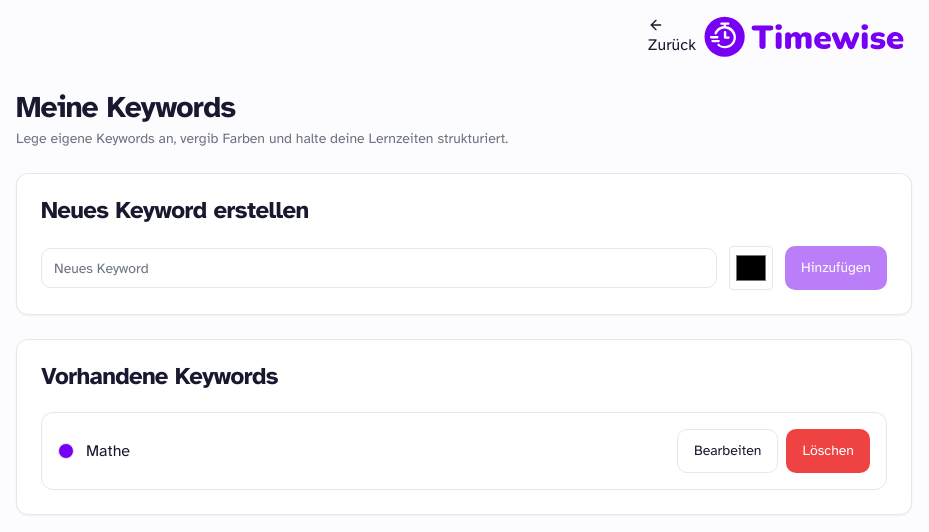
Scenario: KeywordsPage › updates and deletes an existing keyword
Expected: the text "Mathe" is shown, 86,439 -> 130,463
Click the button "Bearbeiten". click: (728, 451)
box: 677,429 -> 778,473
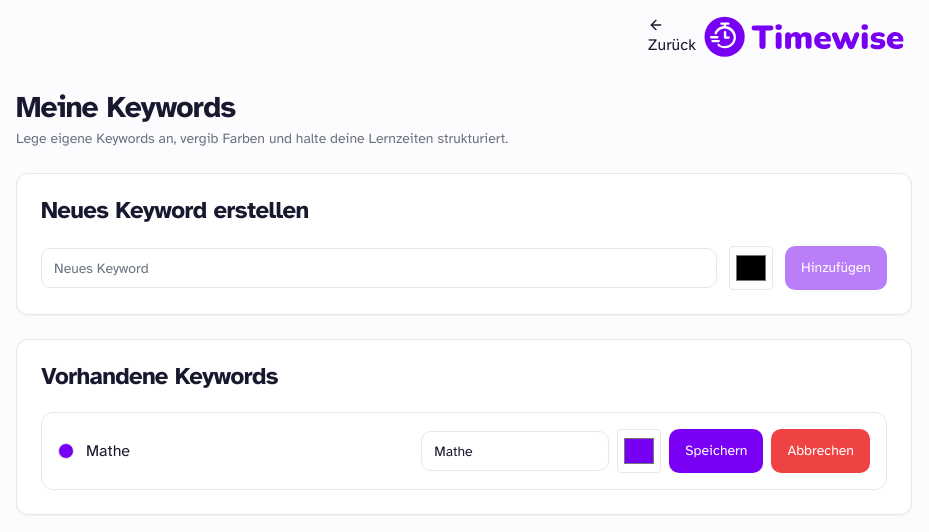
Replace the text in the field showing "Mathe" with "Physik". click: (515, 451)
box: 421,431 -> 609,471
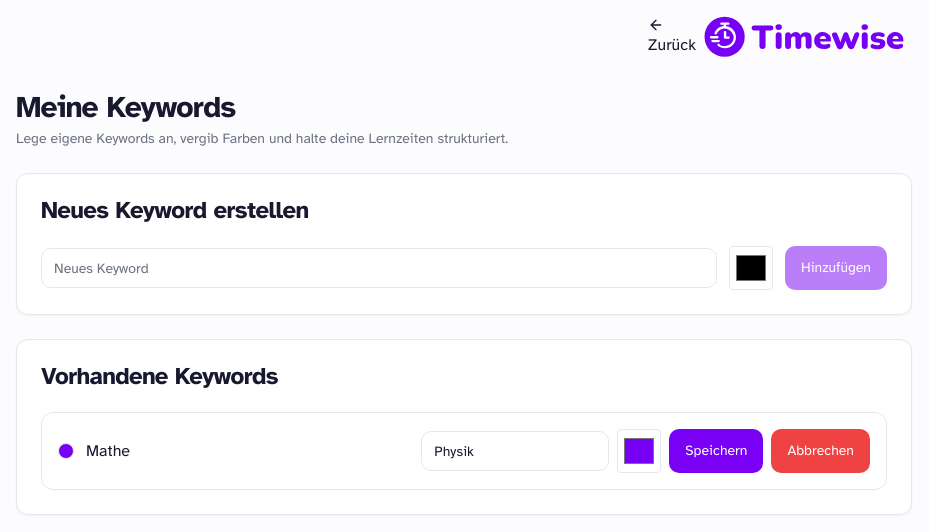
Click the button "Speichern". click: (716, 451)
box: 669,429 -> 763,473
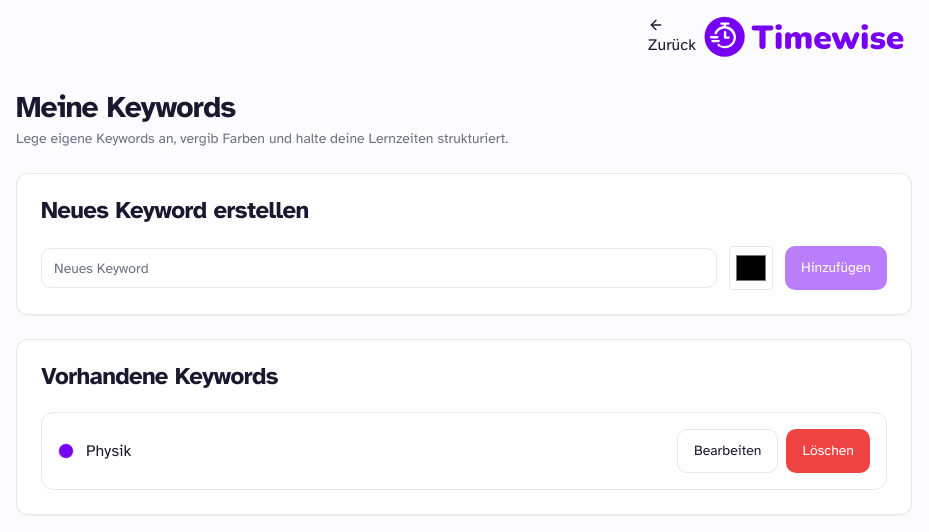
Now the text "Physik" is shown, box 86,439 -> 131,463
Click the button "Löschen". click: (828, 451)
box: 786,429 -> 870,473
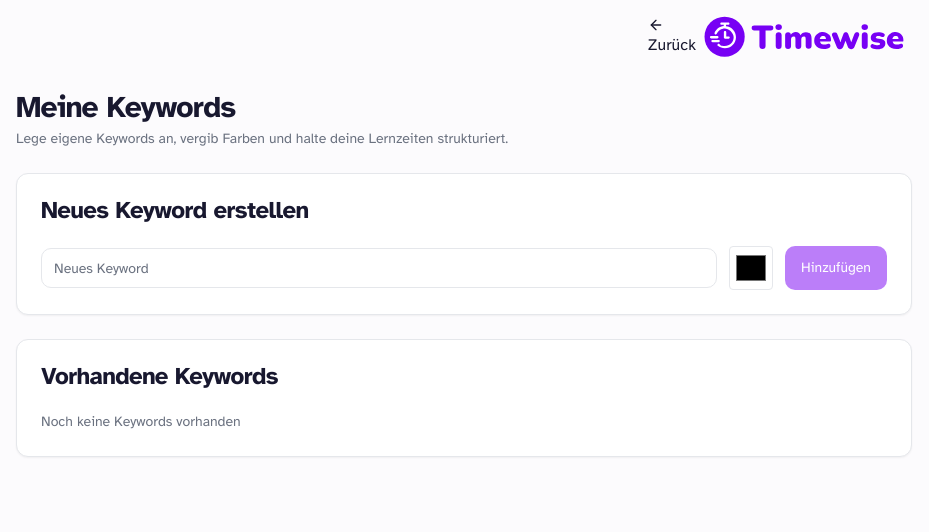
Now the text "Physik" is gone
